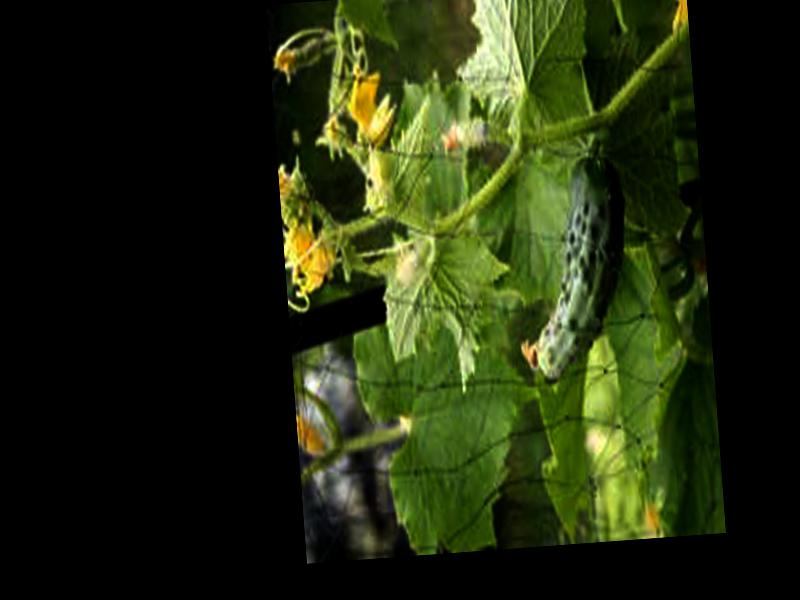Cucumber: (506, 150, 635, 384)
